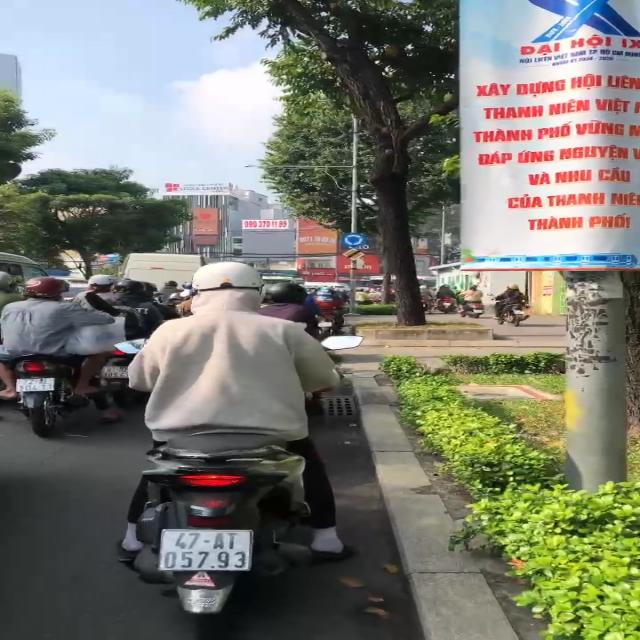Bien bao noi giao nhau chay theo vong xuyen: (340, 231, 369, 249)
